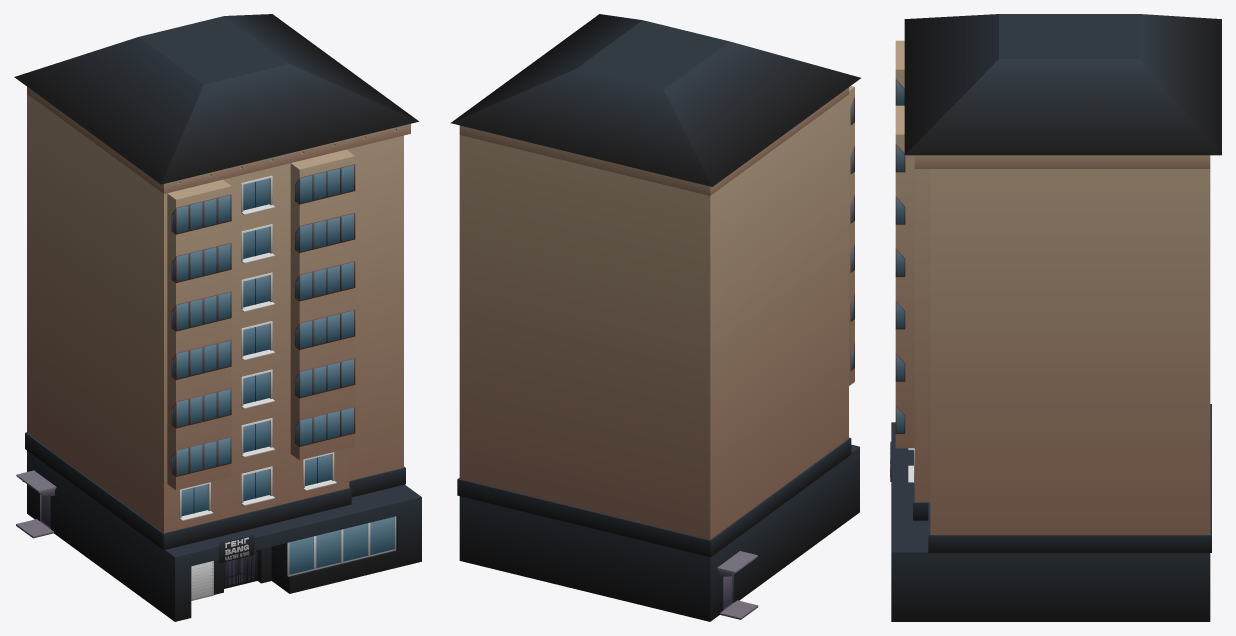
Rendered from GangsterClub.fbx.
The picture shows the model from 3 angles, left to right: view 1: azimuth 30°, elevation 25°; view 2: azimuth 150°, elevation 25°; view 3: azimuth 270°, elevation 25°; orthographic projection. The views are drawn at different scales.
Parts seen in each view (by area): view 1: Building.020; view 2: Building.020; view 3: Building.020.
Part boxes in pixels (x1=…): Building.020: x1=14, y1=14, x2=421, y2=621; Building.020: x1=450, y1=14, x2=860, y2=621; Building.020: x1=890, y1=14, x2=1221, y2=621.
Bounding box in the file's own units: 1759 × 2981 × 1727.
